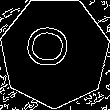O_E: (29, 30, 80, 74)
